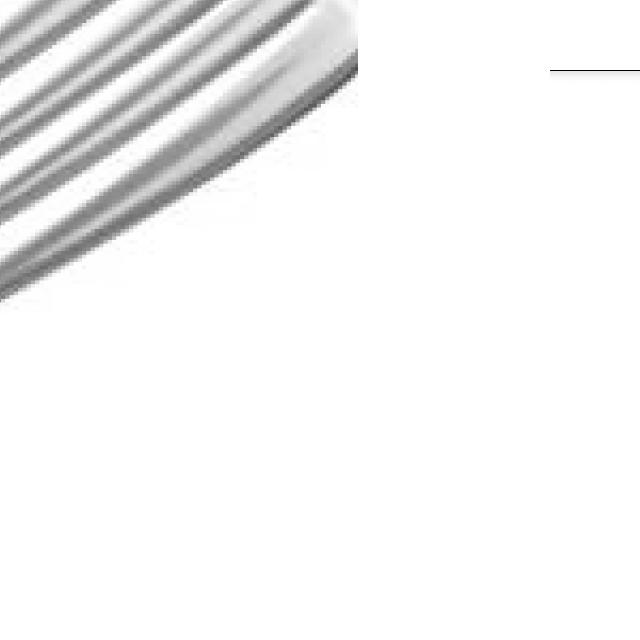forks: (0, 0, 358, 313), (450, 170, 640, 313)
